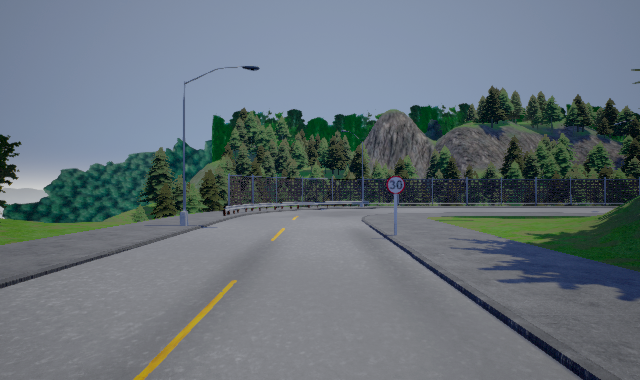traffic_sign: (386, 176, 405, 194)
